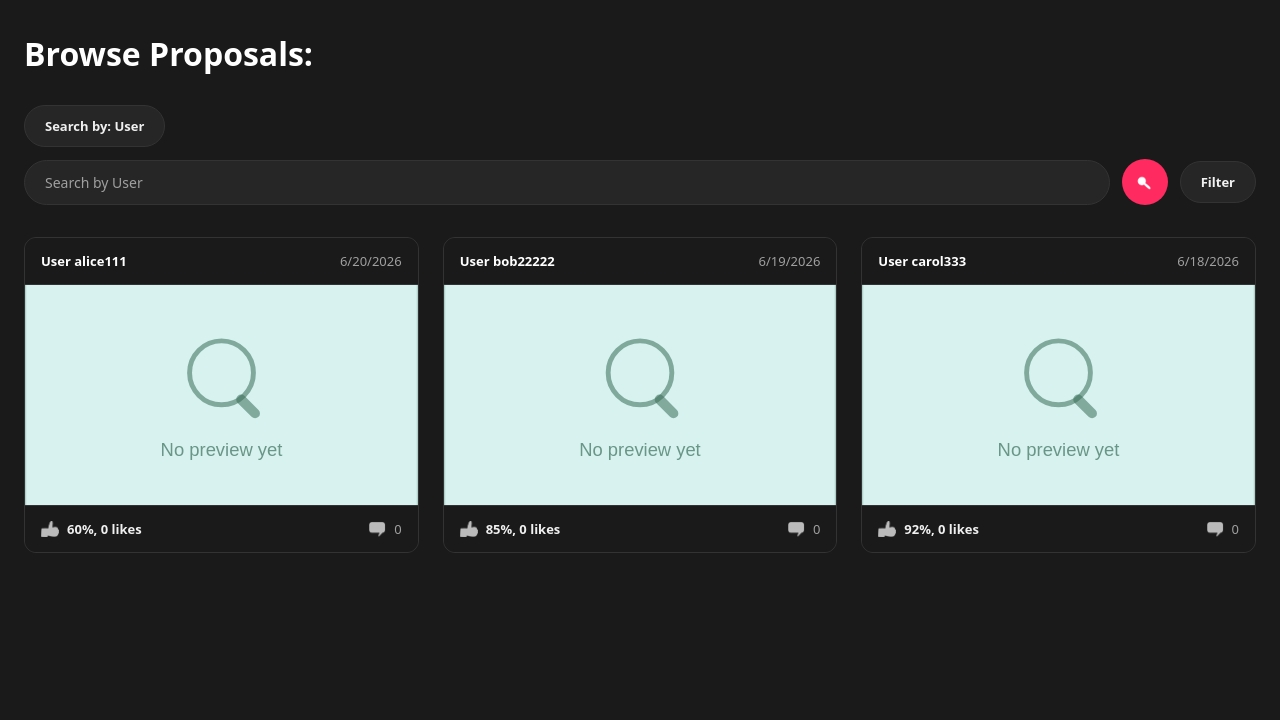
filters proposals by the selected date
The image size is (1280, 720).
Check: the text "User alice111" is shown, box [41,252,127,270]
Click the button "Search by: User".
click(95, 126)  # box [24,105,165,147]
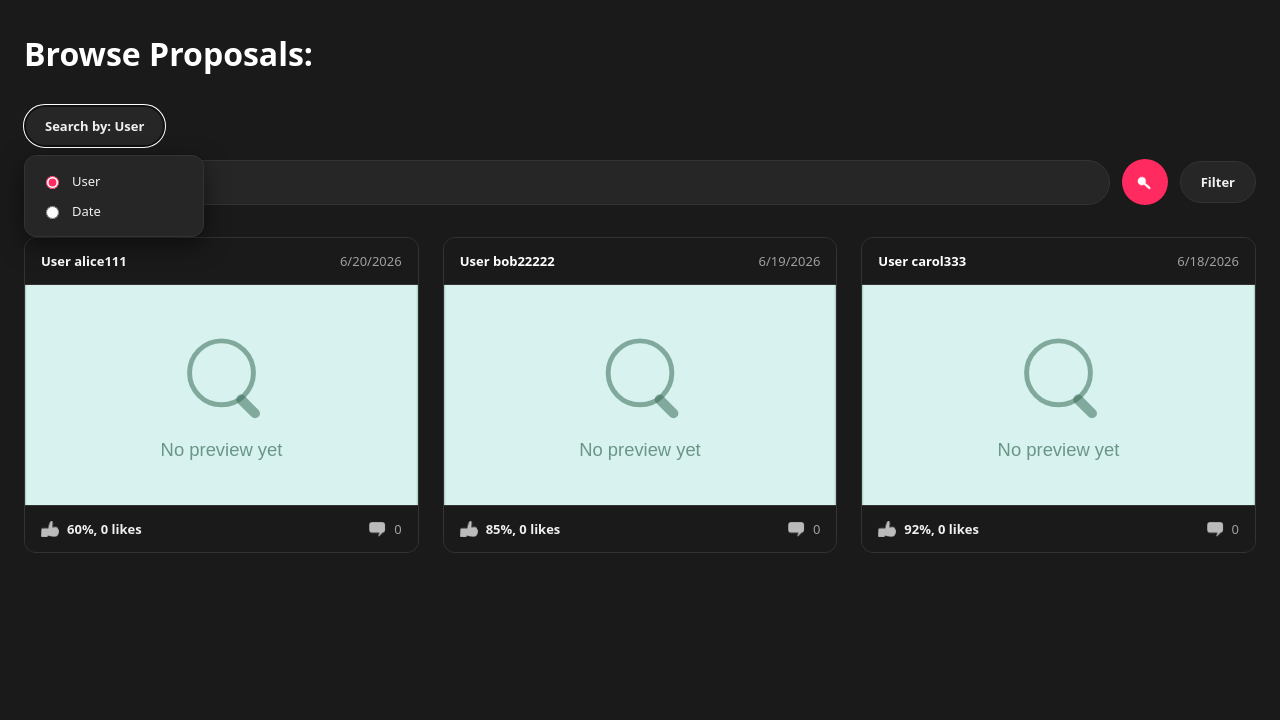
Click the radio button labelled "Date".
click(52, 212)  # box [46,206,59,219]
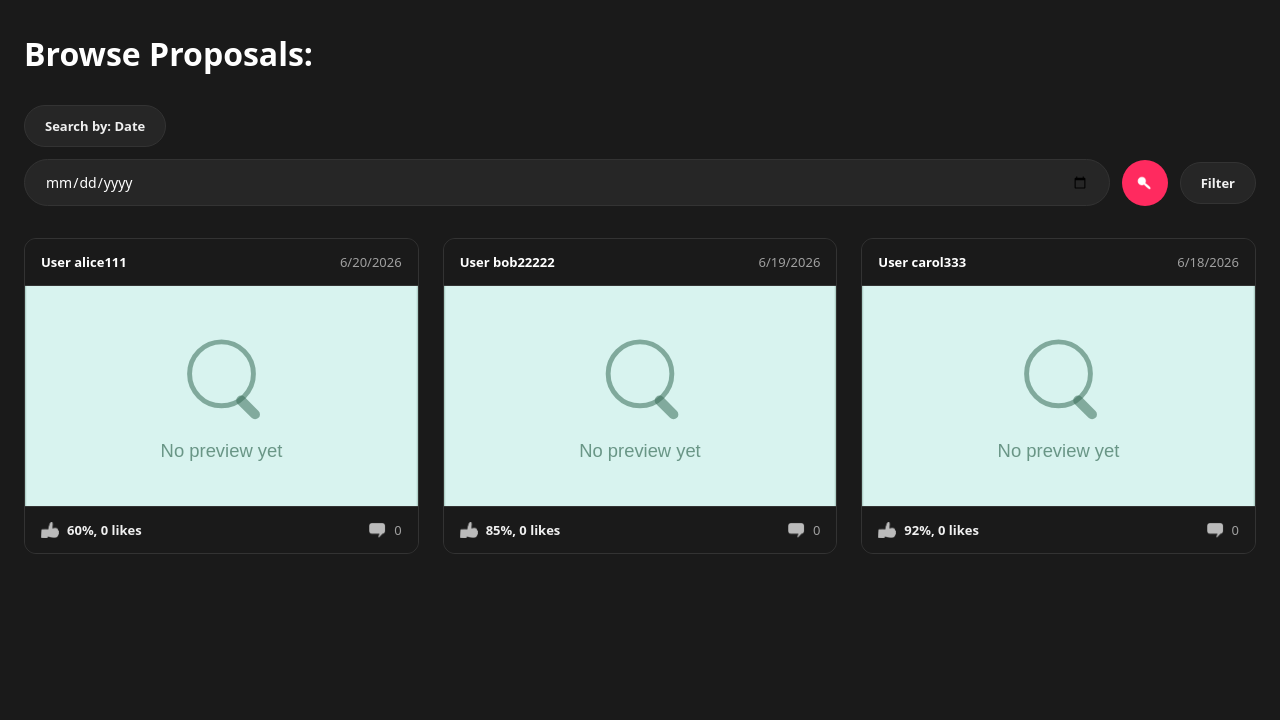
Type "2026-06-19" into the date field labelled "Search by Date".
click(567, 182); type("2026-06-19")  # box [24,159,1110,206]
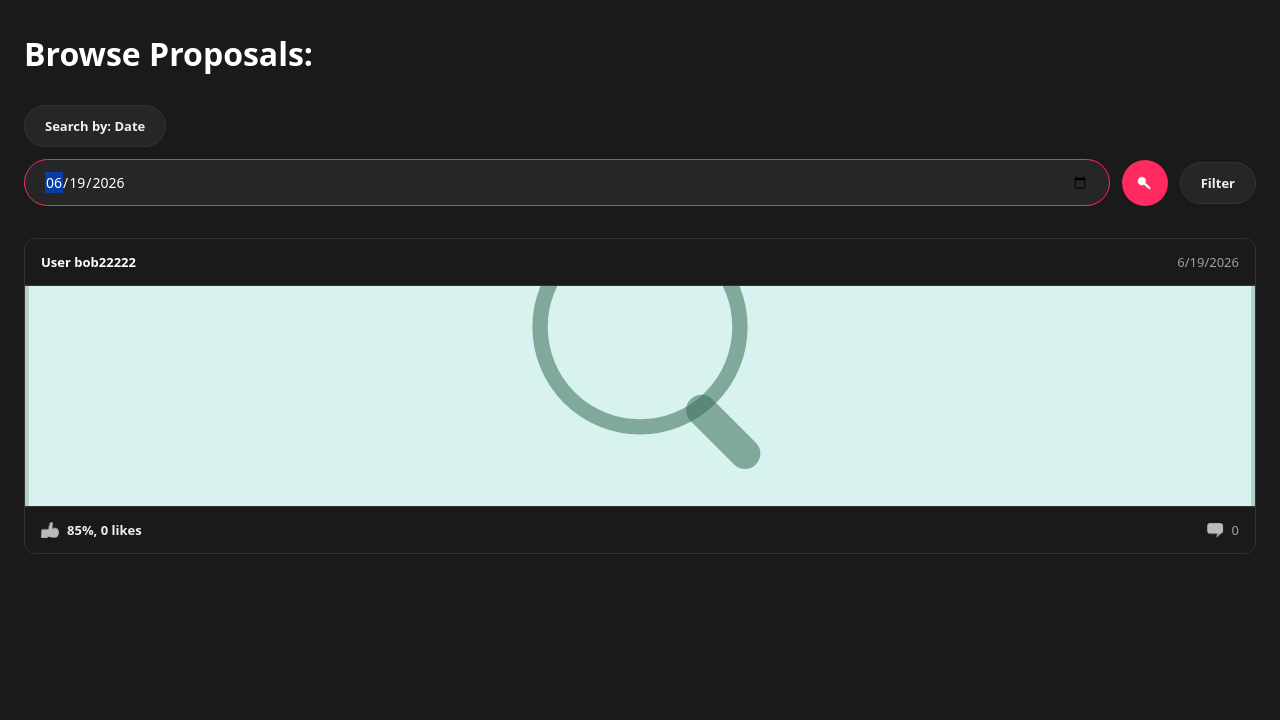
Check: the text "User bob22222" is shown, box [41,253,136,271]
Check: the number of pictures with alt text "Preview thumbnail of the proposal" is 1, box [25,286,1255,506]
